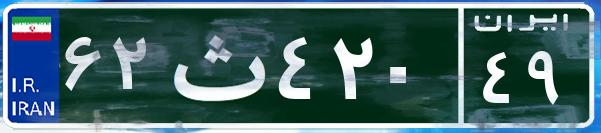0: (385, 28, 445, 110)
2: (330, 28, 385, 110), (110, 28, 158, 105)
4: (273, 28, 330, 110), (475, 38, 525, 113)
6: (57, 26, 110, 107)
9: (525, 38, 570, 115)
ث: (158, 15, 273, 115)
